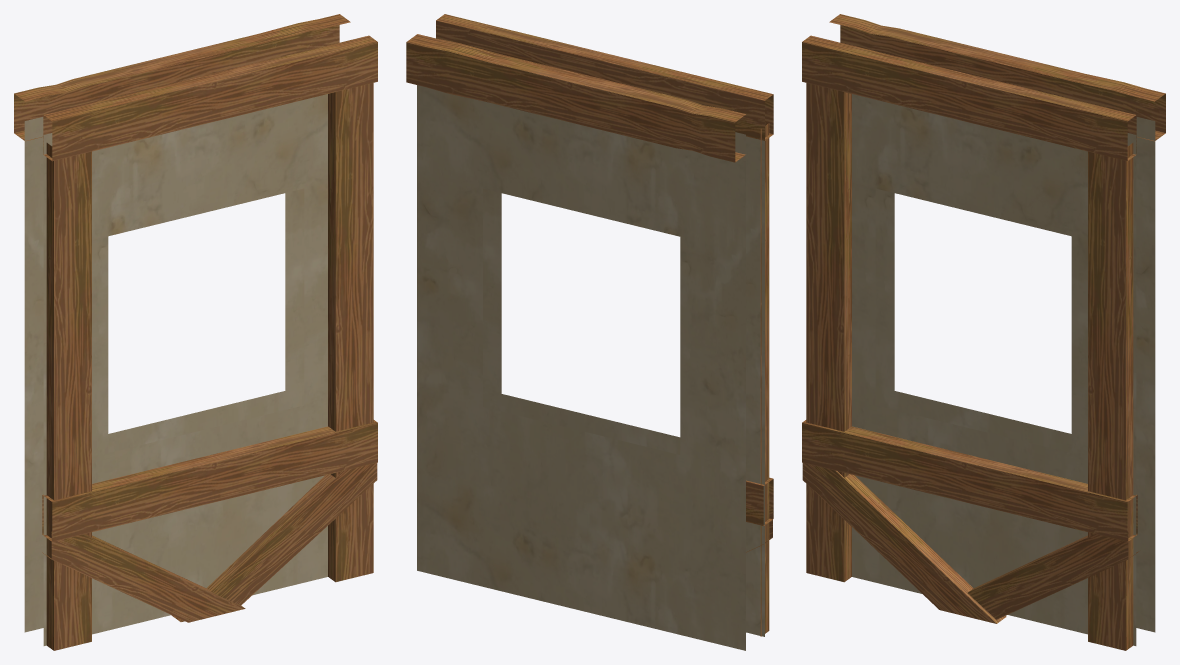
The model's file is Wall_Plaster_Window_Wide_Flat2.glb.
3 renders of one model, left to right at view 1: azimuth 30°, elevation 25°; view 2: azimuth 150°, elevation 25°; view 3: azimuth 330°, elevation 25°, orthographic.
Visible parts, largest first — view 1: Wall_Plaster_Window_Wide_Flat2; view 2: Wall_Plaster_Window_Wide_Flat2; view 3: Wall_Plaster_Window_Wide_Flat2.
Boxes of the visible parts, bbox=[...] form: Wall_Plaster_Window_Wide_Flat2: bbox=[14, 14, 377, 650]; Wall_Plaster_Window_Wide_Flat2: bbox=[406, 14, 773, 650]; Wall_Plaster_Window_Wide_Flat2: bbox=[802, 14, 1165, 650].
Bounding box in the file's own units: 2 × 3.15 × 0.4063.
2 materials, 2 textured.
